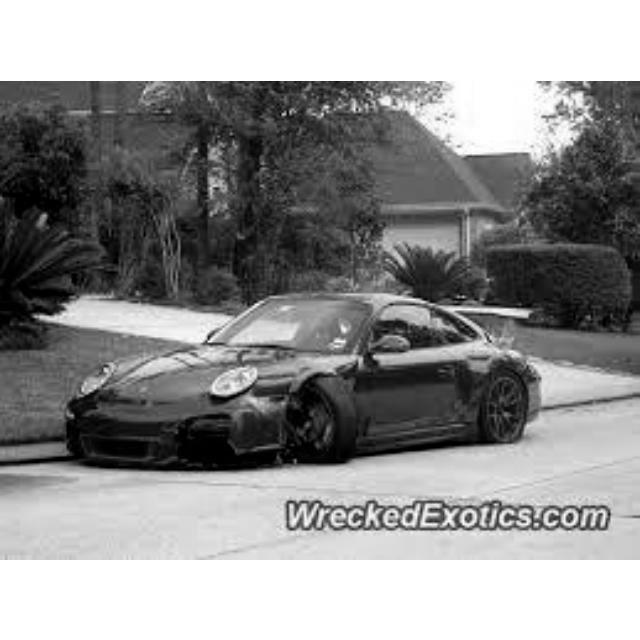fender-dent: (235, 387, 289, 448)
